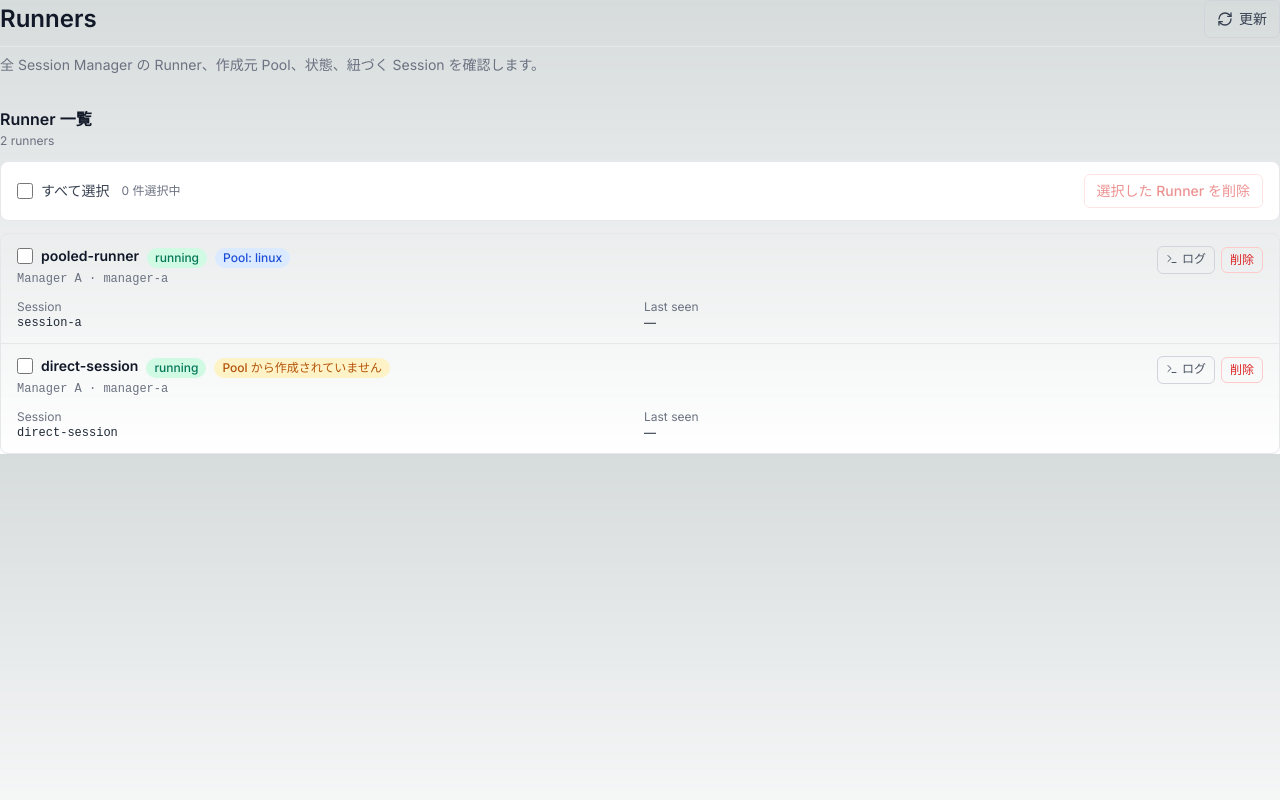
AdminRunnersPage › shows pool origin, linked sessions, and runner logs
Expected: the text "pooled-runner" is shown, [41,246,139,266]
Expected: the text "Pool: linux" is shown, [215,248,290,268]
Click the button "ログ" in the row of "Pool から作成されていません". click: x=1186, y=370
box: [1157,356,1215,384]
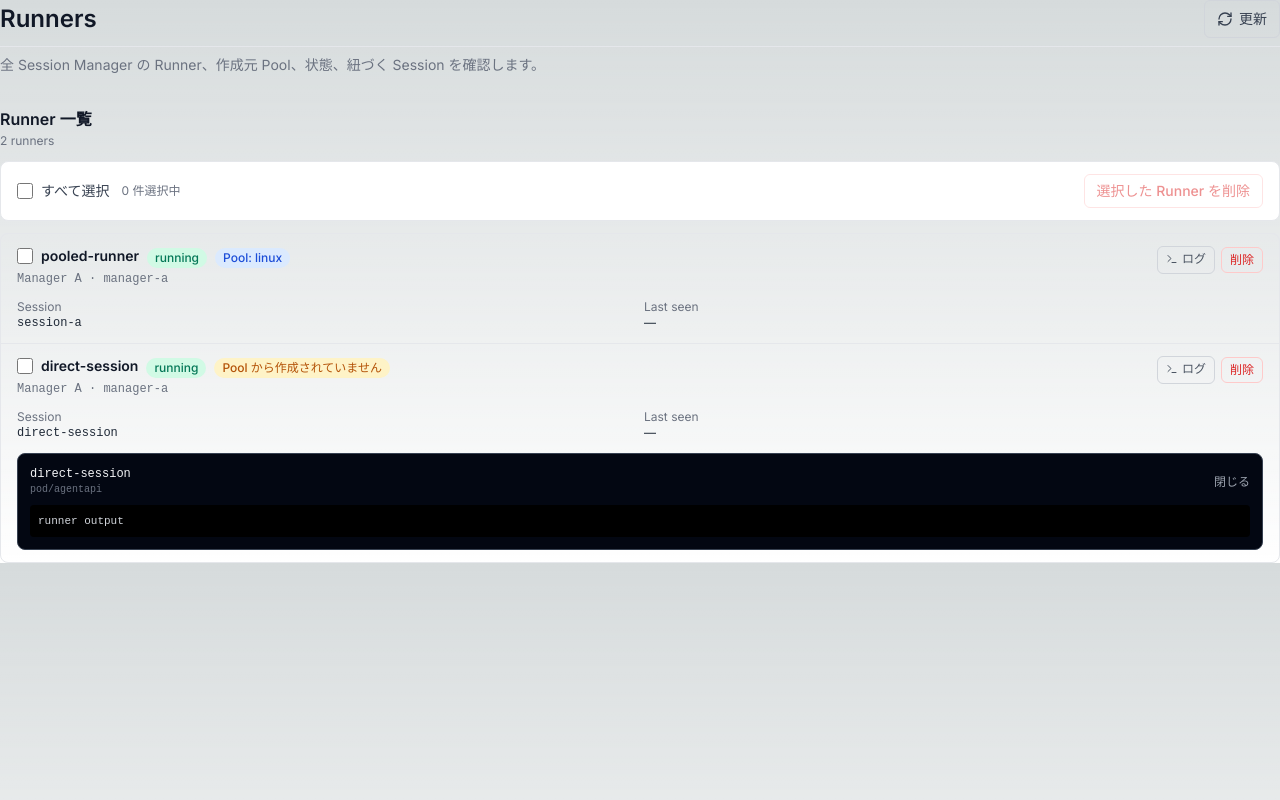
Expected: the text "runner output" is shown, [30,505,1250,537]
